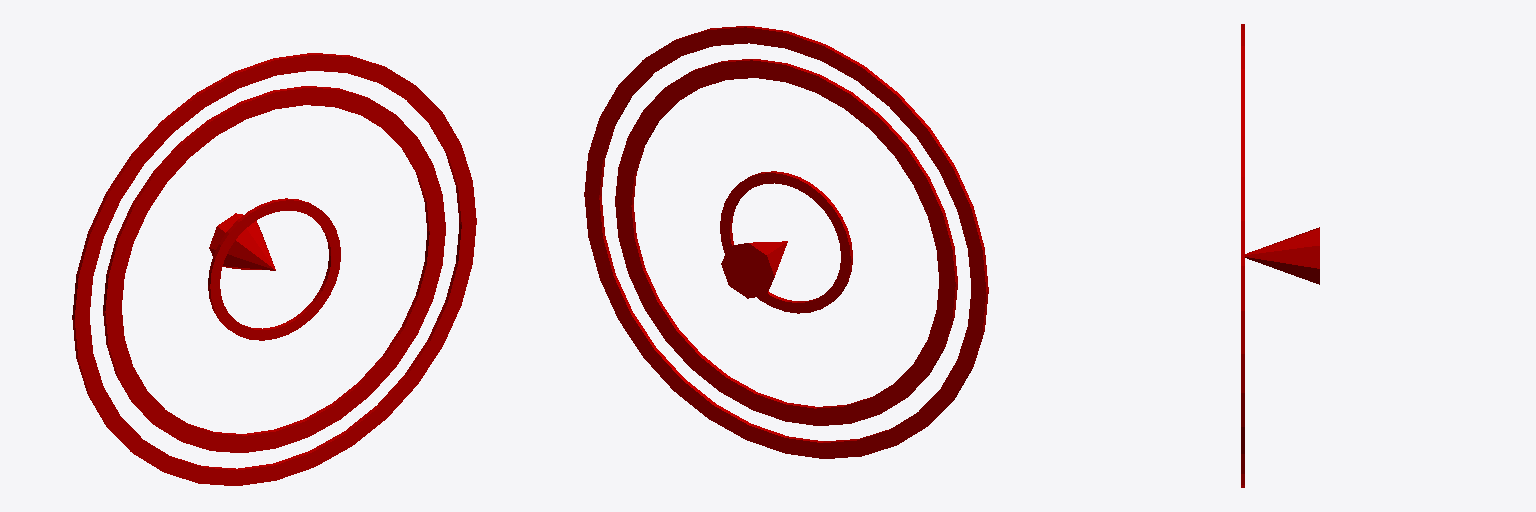
The model's file is ArtilleryIndicator.obj.
3 views of the same model, side by side, from view 1: azimuth 30°, elevation 25°; view 2: azimuth 150°, elevation 25°; view 3: azimuth 270°, elevation 25° (orthographic).
Visible parts, largest first — view 1: Circle; view 2: Circle; view 3: Circle.
Boxes of the visible parts, x1=… form: Circle: x1=72, y1=53, x2=476, y2=485; Circle: x1=584, y1=26, x2=988, y2=458; Circle: x1=1241, y1=24, x2=1319, y2=487.
Bounding box in the file's own units: 1.8 × 1.8 × 0.312.